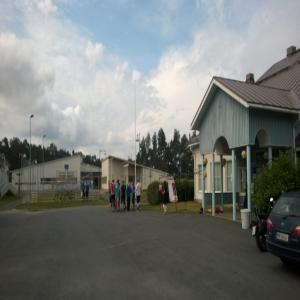Vehicle-registration-plate: (276, 232, 289, 242)
